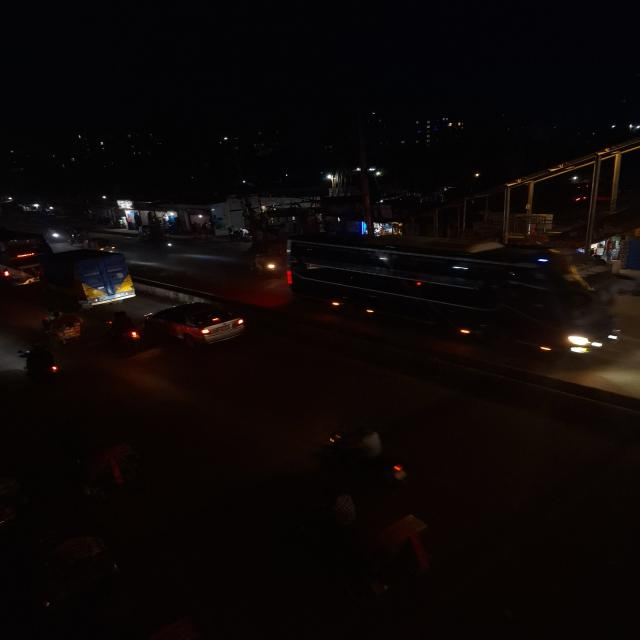bus: (276, 233, 629, 373), (1, 226, 53, 287)
car: (140, 299, 249, 349)
motorcycle: (14, 343, 66, 384), (102, 310, 143, 348)
rickshaw: (38, 311, 90, 348)
truck: (53, 249, 140, 307)
